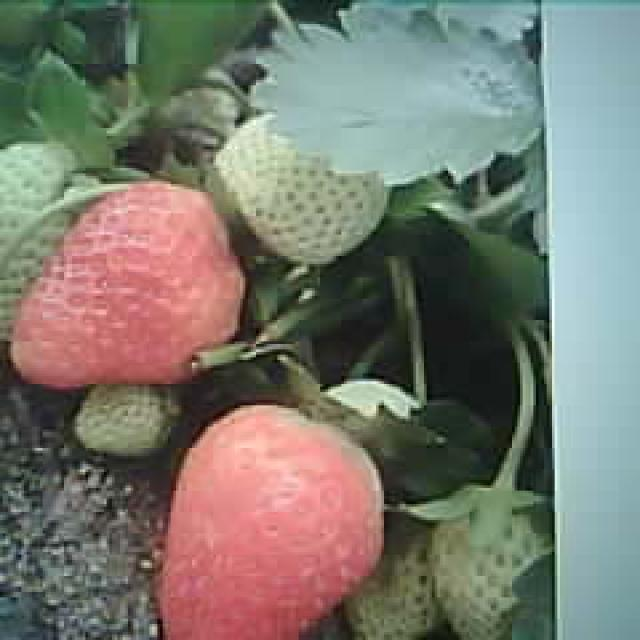ripe: (162, 406, 386, 640), (13, 182, 244, 388)
unripe: (217, 112, 389, 264), (429, 490, 551, 640), (75, 379, 171, 456)
